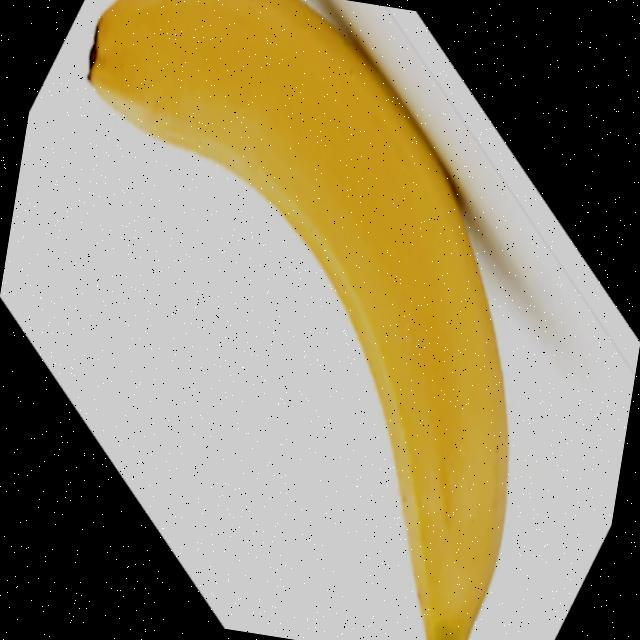banana: (4, 0, 582, 640)
